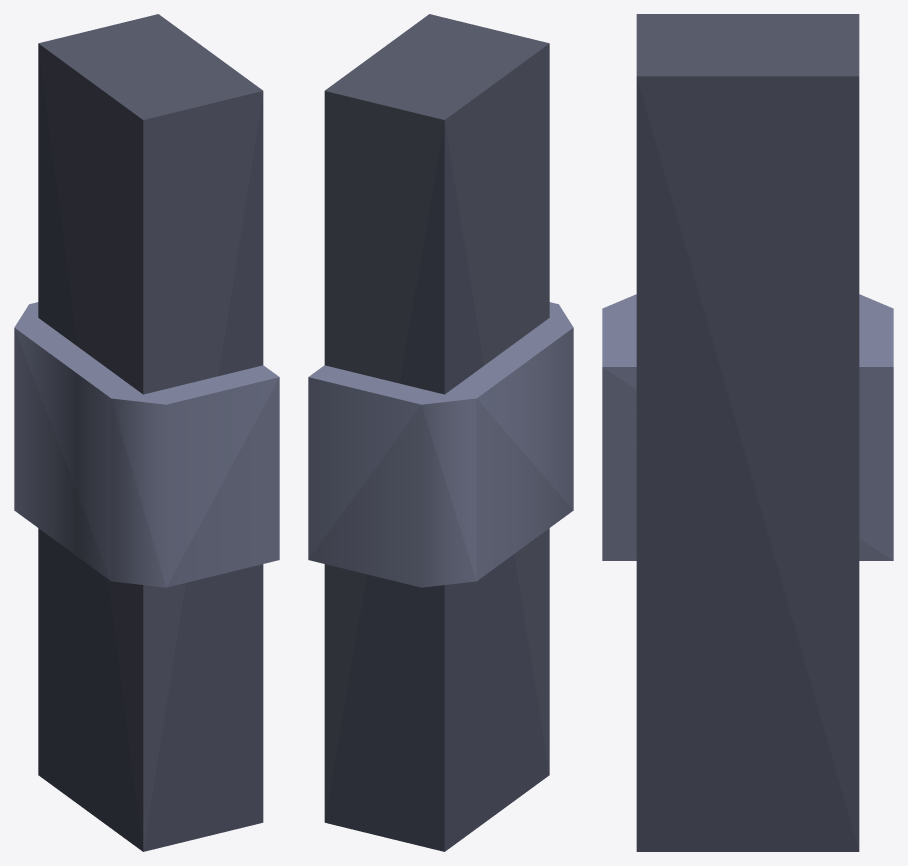
The model's file is fantasytown_chimney.glb.
The picture shows the model from 3 angles, left to right: view 1: azimuth 30°, elevation 25°; view 2: azimuth 150°, elevation 25°; view 3: azimuth 270°, elevation 25°; orthographic projection. The views are drawn at different scales.
Visible parts, largest first — view 1: fantasytown_chimney; view 2: fantasytown_chimney; view 3: fantasytown_chimney.
Boxes of the visible parts, left/top/right/bottom form: fantasytown_chimney: left=14, top=14, right=279, bottom=851; fantasytown_chimney: left=308, top=14, right=573, bottom=851; fantasytown_chimney: left=602, top=14, right=893, bottom=851.
Bounding box in the file's own units: 0.2119 × 1 × 0.34.
